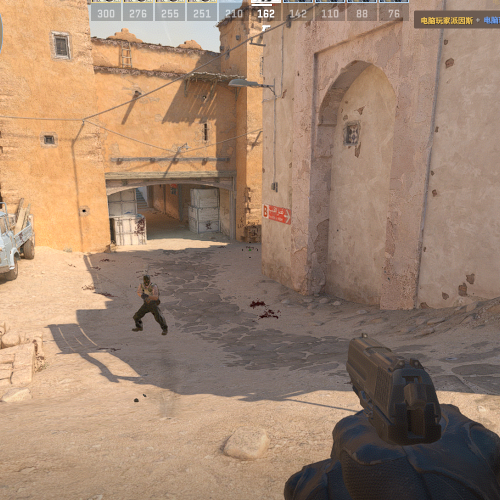t_body: (133, 273, 168, 336)
t_head: (143, 275, 152, 287)
